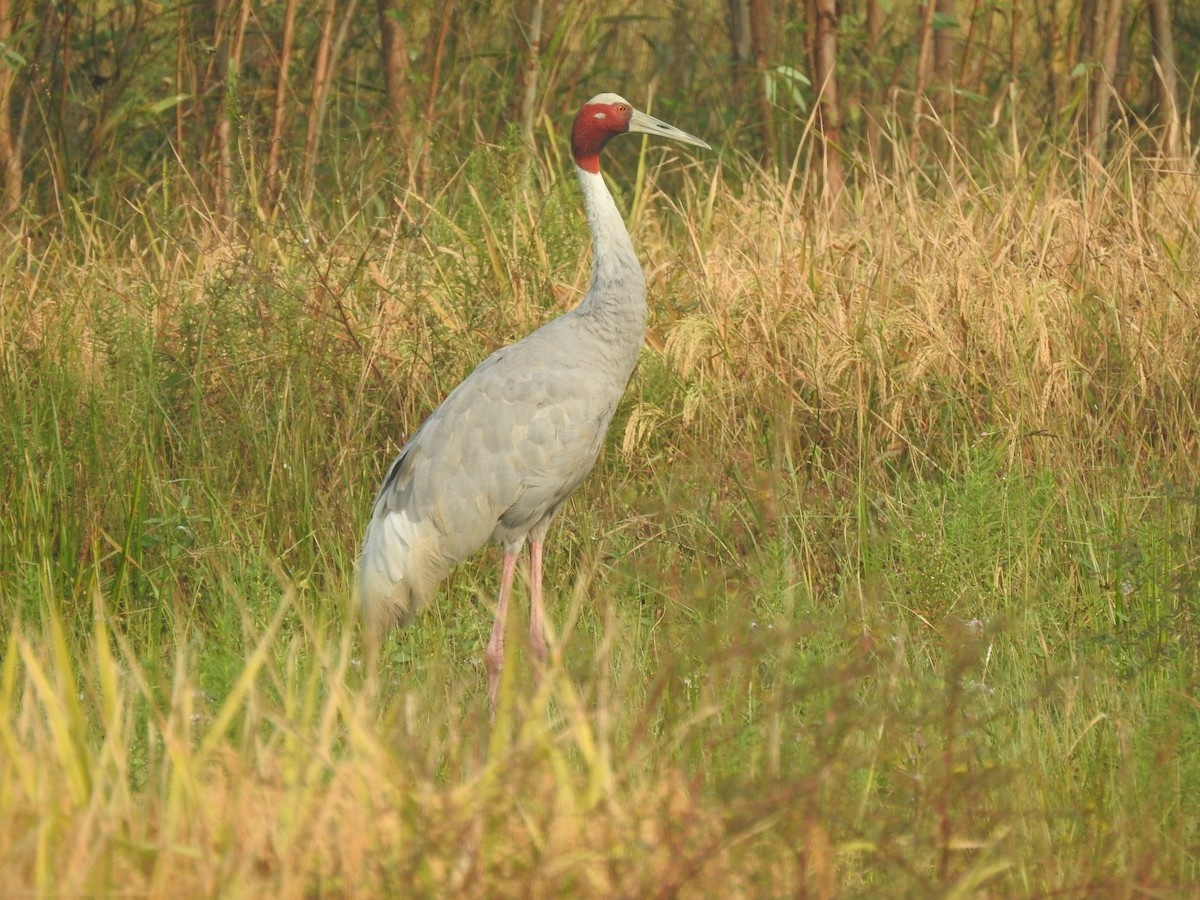crane: (343, 89, 725, 700)
